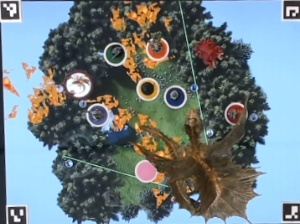blue: (164, 82, 188, 109)
green: (103, 39, 128, 66)
orange: (143, 34, 170, 60)
pink: (132, 157, 157, 184)
red: (224, 101, 247, 126)
violet: (84, 101, 112, 128)
yellow: (133, 74, 160, 100)
